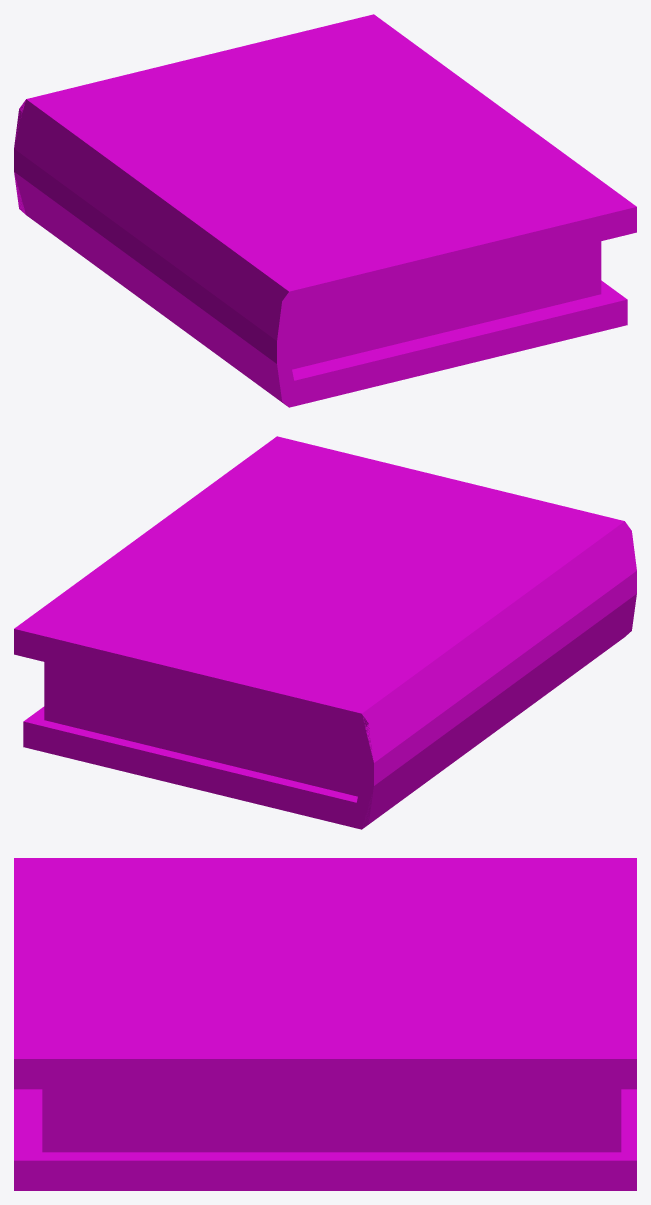
The model's file is 2.Libro.fbx.
The picture shows the model from 3 angles, top to bottom: view 1: azimuth 30°, elevation 25°; view 2: azimuth 150°, elevation 25°; view 3: azimuth 270°, elevation 25°; orthographic projection. The views are drawn at different scales.
Visible parts, largest first — view 1: Tapa, Papel; view 2: Tapa, Papel; view 3: Tapa, Papel.
Part boxes in pixels (x1,y1,x2,y2): Tapa: [14, 14, 636, 407]; Papel: [291, 241, 601, 369]; Tapa: [14, 436, 636, 829]; Papel: [44, 662, 359, 796]; Tapa: [14, 858, 636, 1190]; Papel: [42, 1089, 621, 1152].
Bounding box in the file's own units: 16.69 × 5.14 × 21.13.
